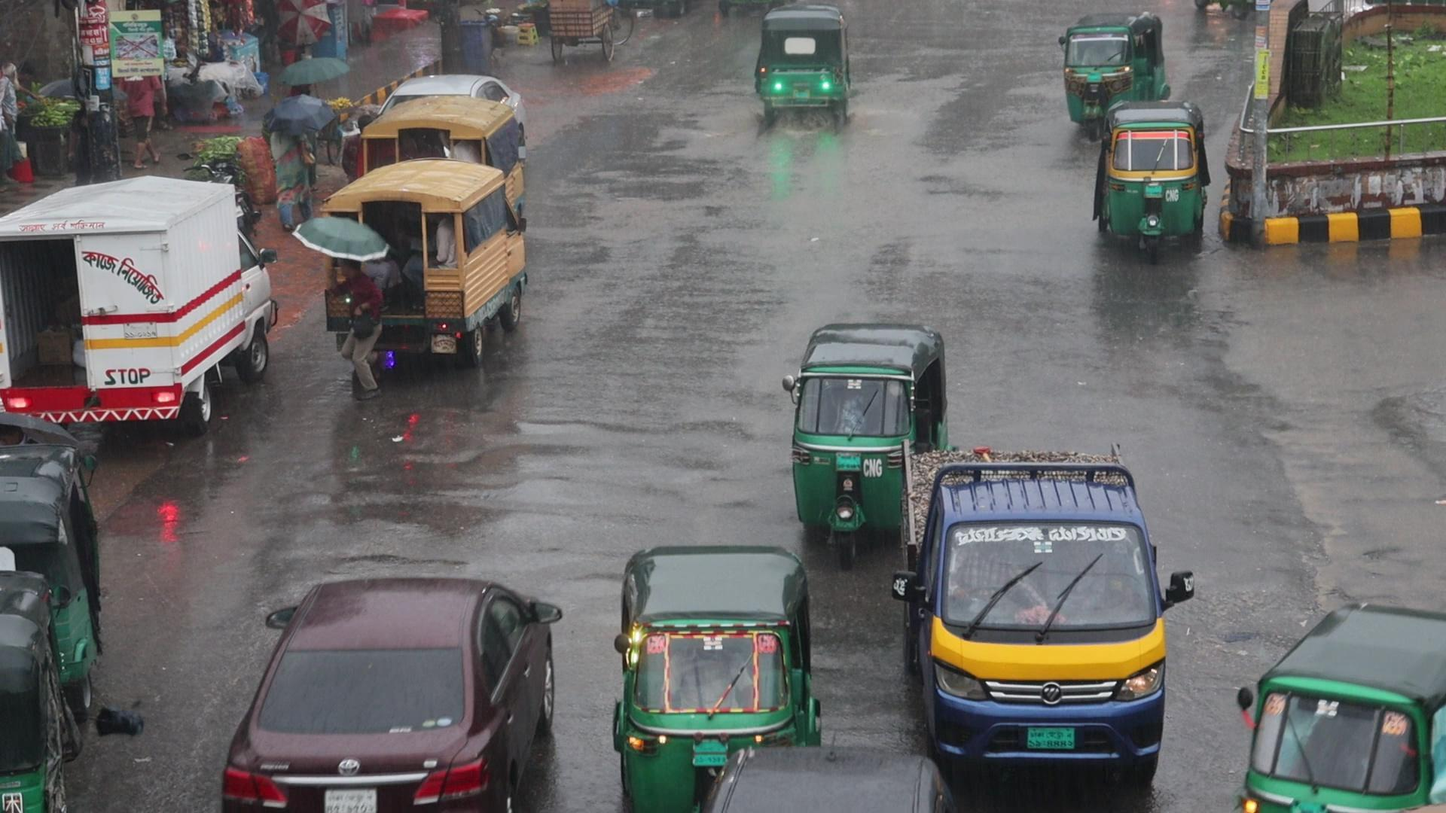Car: (222, 570, 557, 813)
Truck: (893, 438, 1182, 780), (611, 543, 824, 744), (319, 157, 528, 359)
